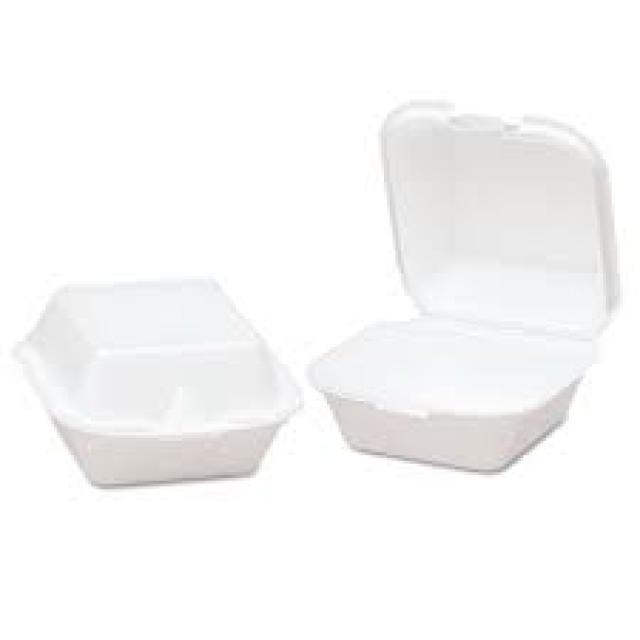styrofoam: (311, 318, 592, 471)
